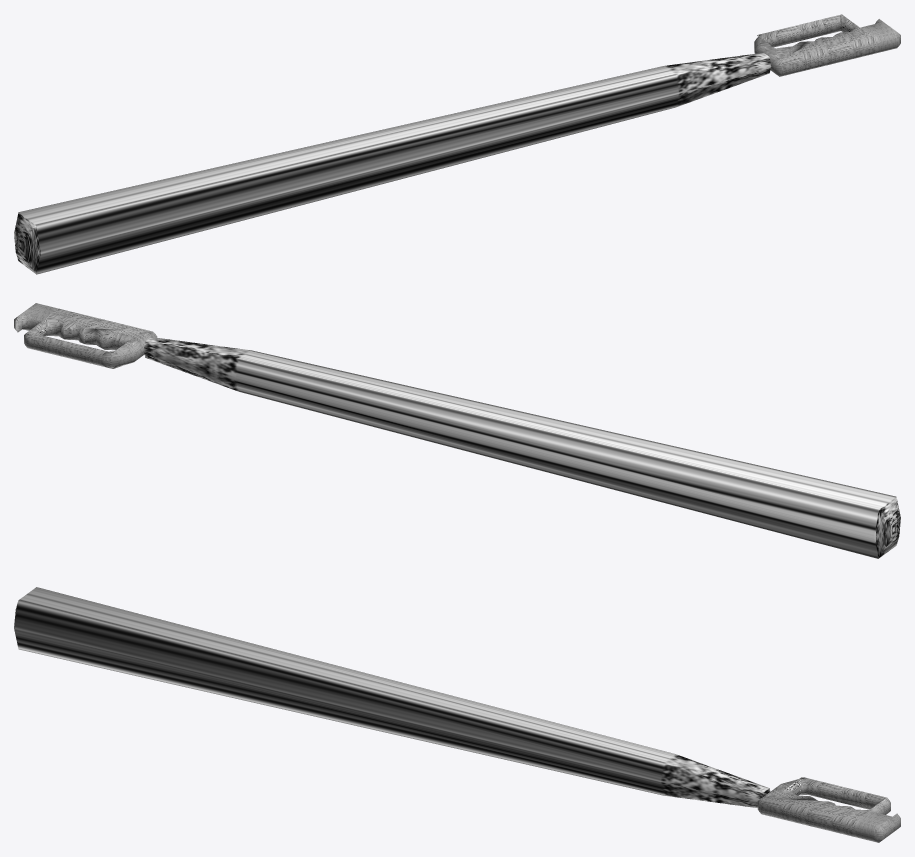
The model's file is club 1h.fbx.
The picture shows the model from 3 angles, top to bottom: view 1: azimuth 30°, elevation 25°; view 2: azimuth 150°, elevation 25°; view 3: azimuth 330°, elevation 25°; orthographic projection.
Visible parts, largest first — view 1: Club_1h; view 2: Club_1h; view 3: Club_1h.
Part boxes in pixels (<box>): Club_1h: <box>14,14,900,274</box>; Club_1h: <box>14,303,900,558</box>; Club_1h: <box>14,587,900,842</box>.
Size of the model in its own units: 111 by 6 by 8.5.
